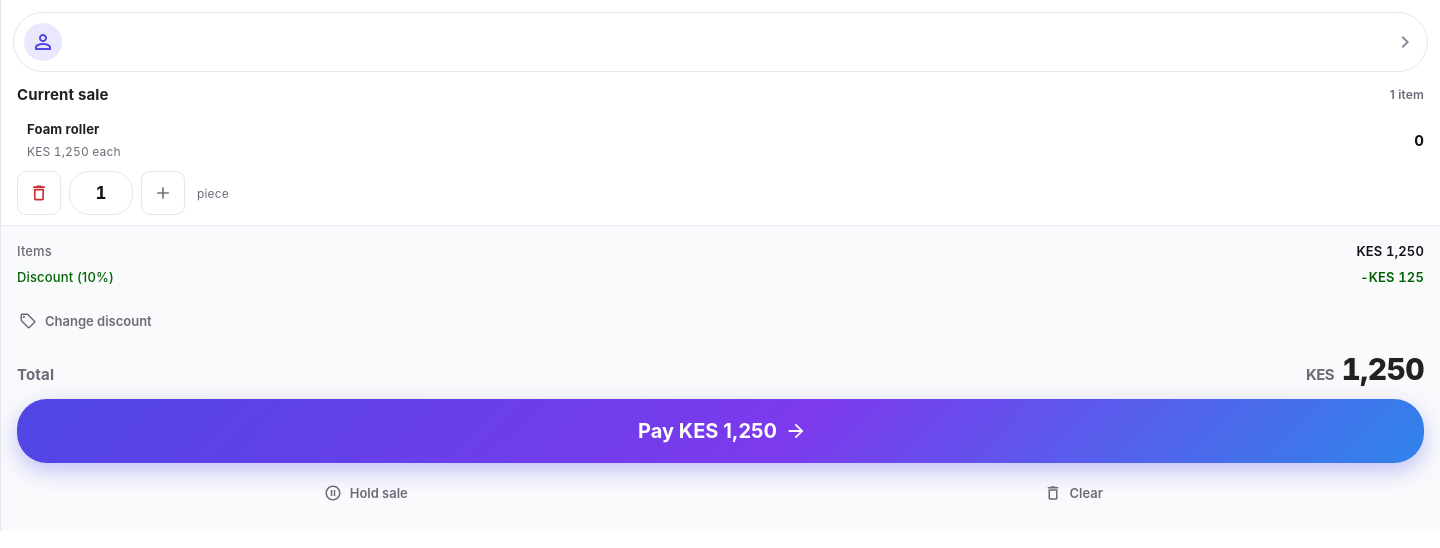
it: the sale in progress › New look: the discount form has verbs and objects
Click the button "Change discount".
click(86, 321)  # box [9,299,164,343]
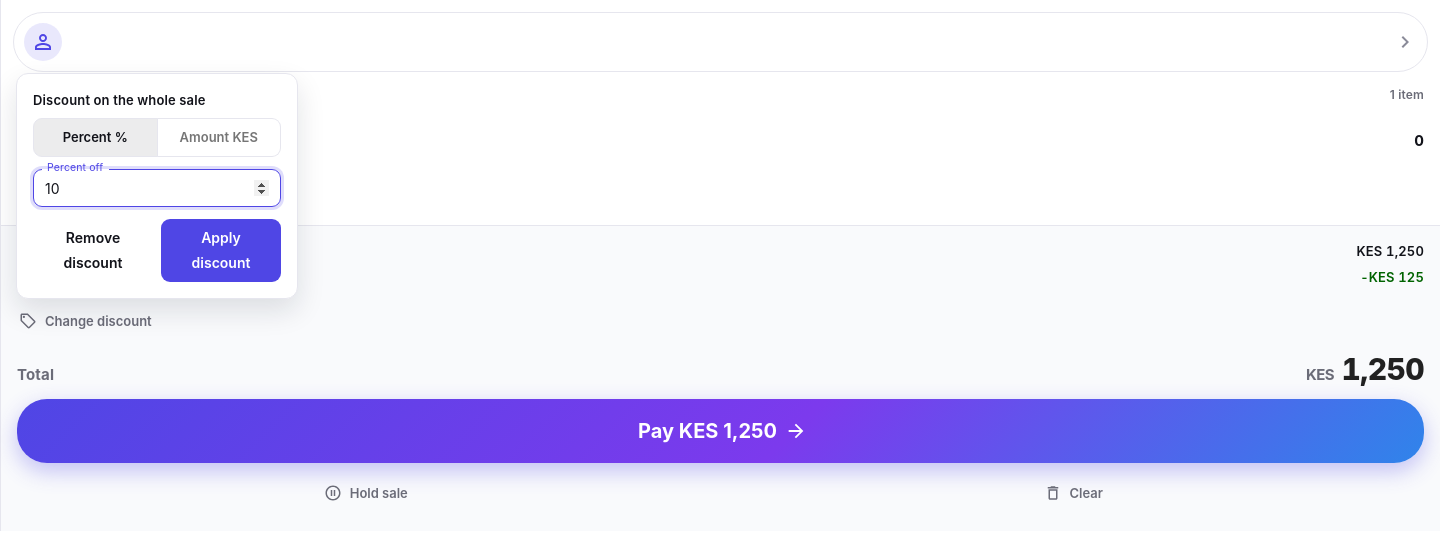
Result: the button "Apply discount" is shown at [161,219,281,282]
Result: the button "Remove discount" is shown at [33,219,153,282]
